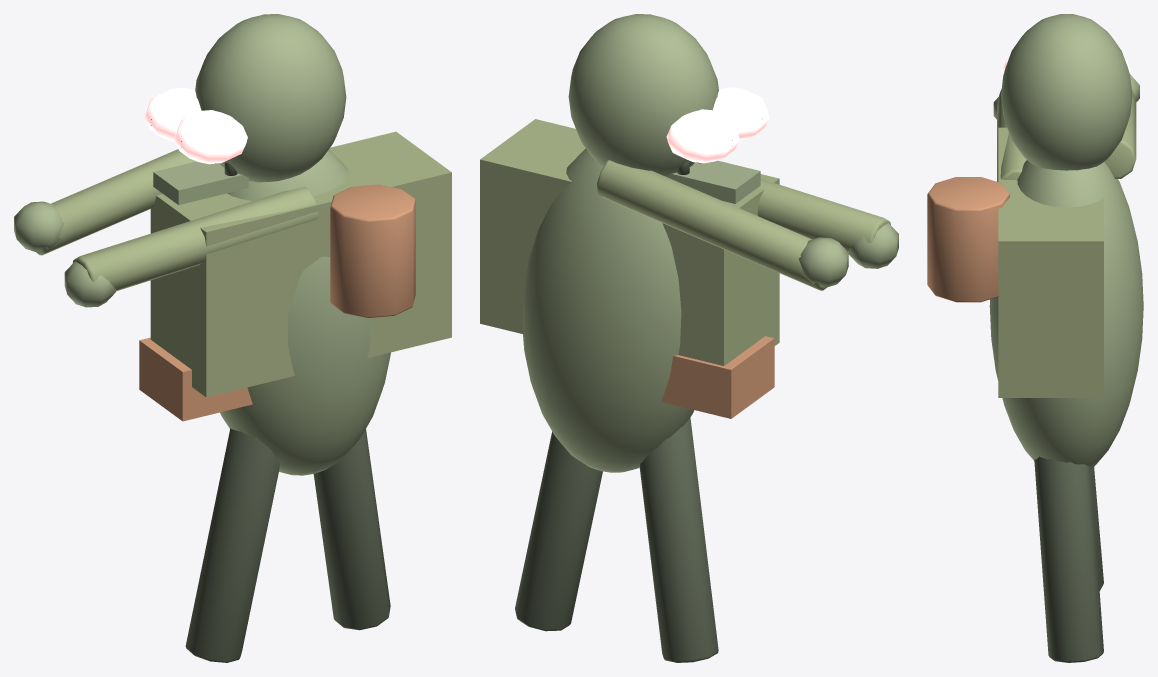
The model's file is runner.glb.
The picture shows the model from 3 angles, left to right: view 1: azimuth 30°, elevation 25°; view 2: azimuth 150°, elevation 25°; view 3: azimuth 270°, elevation 25°; orthographic projection. The views are drawn at different scales.
Visible parts, largest first — view 1: chest, torso, head, leg, speed_strip, leg.001, arm.001, arm, leg_band, eye.001, mouth_band, hand (+2 smaller); view 2: torso, chest, head, leg, leg.001, arm, leg_band, arm.001, eye, mouth_band, hand, eye.001 (+1 smaller); view 3: chest, torso, head, leg.001, speed_strip, arm, arm.001, leg.
Part boxes in pixels (<box>): chest: <box>150,131,451,397</box>; torso: <box>220,149,390,475</box>; head: <box>195,14,346,182</box>; leg: <box>185,428,279,662</box>; speed_strip: <box>330,184,415,317</box>; leg.001: <box>313,429,390,630</box>; arm.001: <box>72,187,319,291</box>; arm: <box>36,149,195,255</box>; leg_band: <box>139,337,252,421</box>; eye.001: <box>174,110,247,164</box>; mouth_band: <box>153,161,248,205</box>; hand: <box>14,201,64,251</box>; torso: <box>522,148,694,472</box>; chest: <box>480,119,779,365</box>; head: <box>568,14,718,176</box>; leg: <box>639,417,718,662</box>; leg.001: <box>515,431,602,631</box>; arm: <box>597,160,826,290</box>; leg_band: <box>662,336,774,418</box>; arm.001: <box>757,179,890,251</box>; eye: <box>666,109,739,163</box>; mouth_band: <box>666,160,760,203</box>; hand: <box>799,237,848,287</box>; eye.001: <box>712,87,769,140</box>; chest: <box>998,127,1103,397</box>; torso: <box>989,160,1143,468</box>; head: <box>1001,14,1132,170</box>; leg.001: <box>1034,456,1103,662</box>; speed_strip: <box>927,177,1009,302</box>; arm: <box>1104,89,1136,178</box>; arm.001: <box>997,89,1026,181</box>; leg: <box>1091,467,1103,590</box>.
Bounding box in the file's own units: 0.7926 × 1.27 × 0.419.
